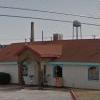Chimney: (26, 18, 41, 45)
